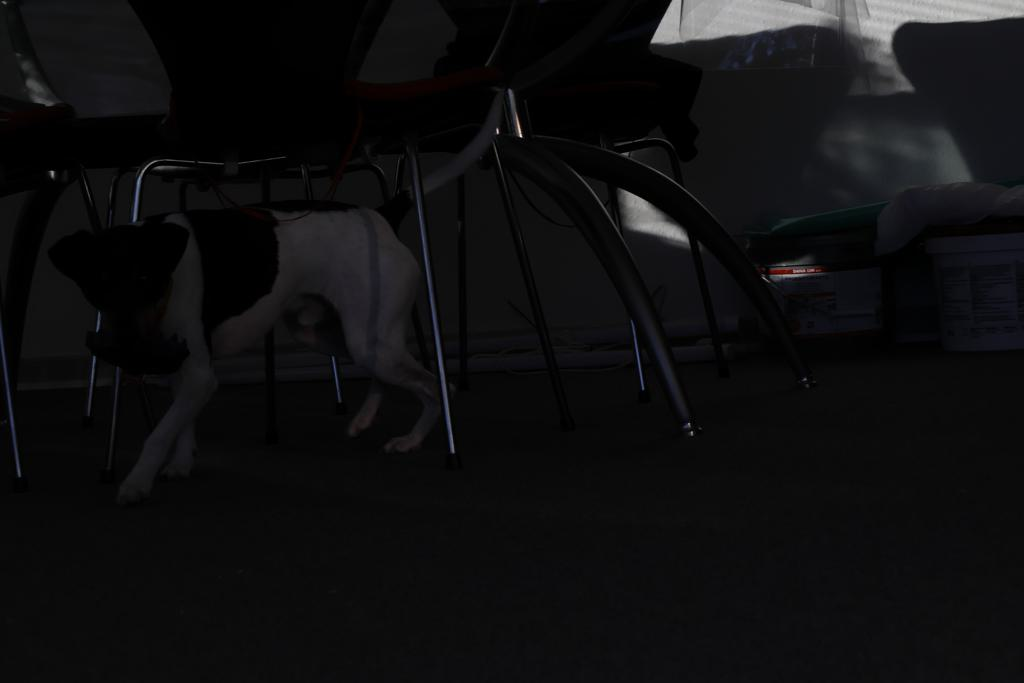Dog: (37, 78, 514, 511)
